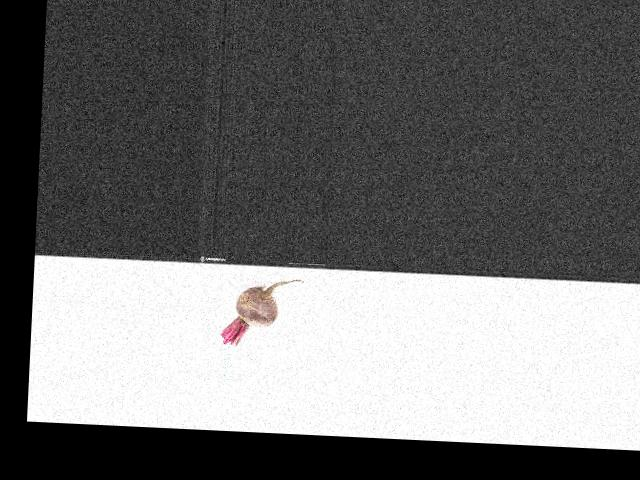beet: (221, 275, 304, 348)
